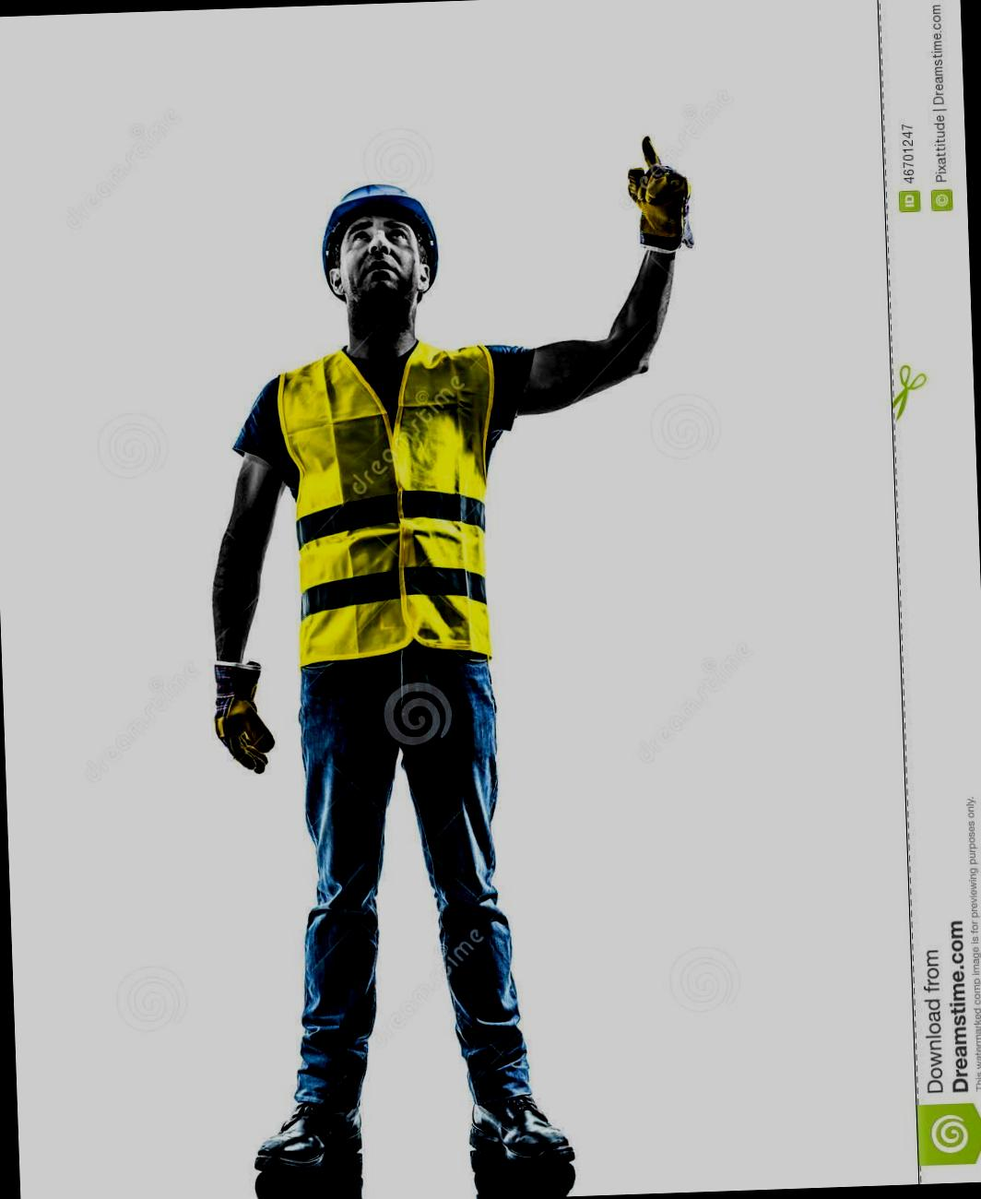helmet: (306, 176, 461, 279)
person: (167, 142, 683, 1199)
